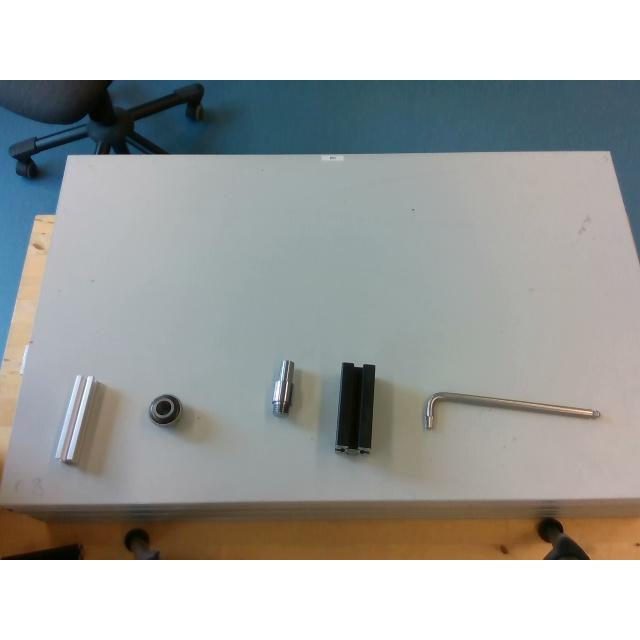AllenKey: (424, 391, 600, 429)
Axis2: (272, 360, 292, 416)
Bearing2: (149, 396, 181, 424)
F20_20_G: (54, 376, 94, 464)
S40_40_B: (334, 362, 374, 453)
